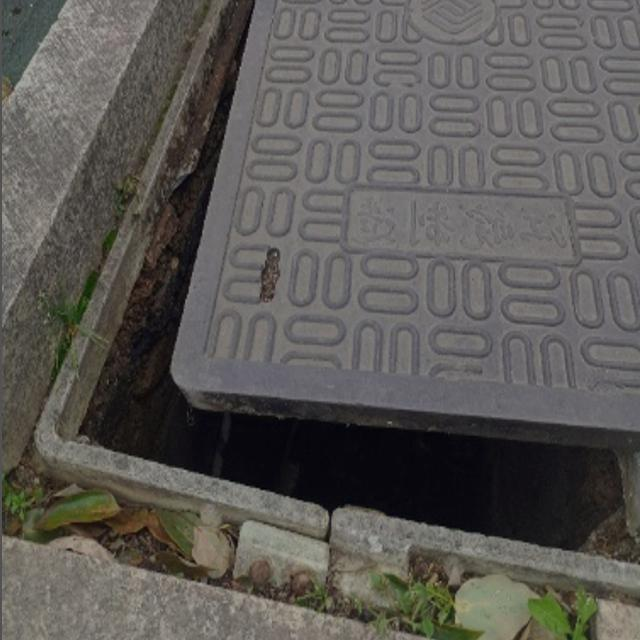uncovered: (30, 0, 639, 598)
